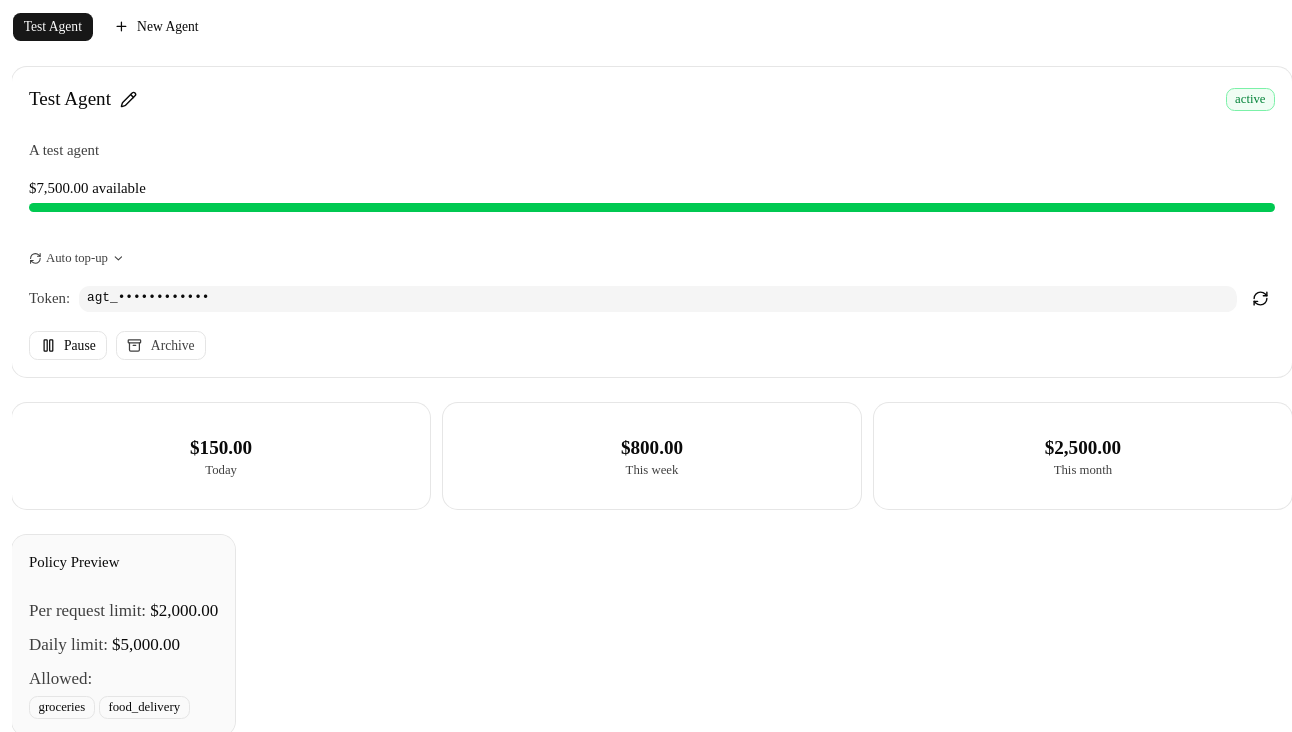
Test case: DashboardPage › create form error handling › shows generic error when create fails with non-ApiError
Note: Open the create form
Click the button "New Agent" at (156, 27), box [102,12,210,42]
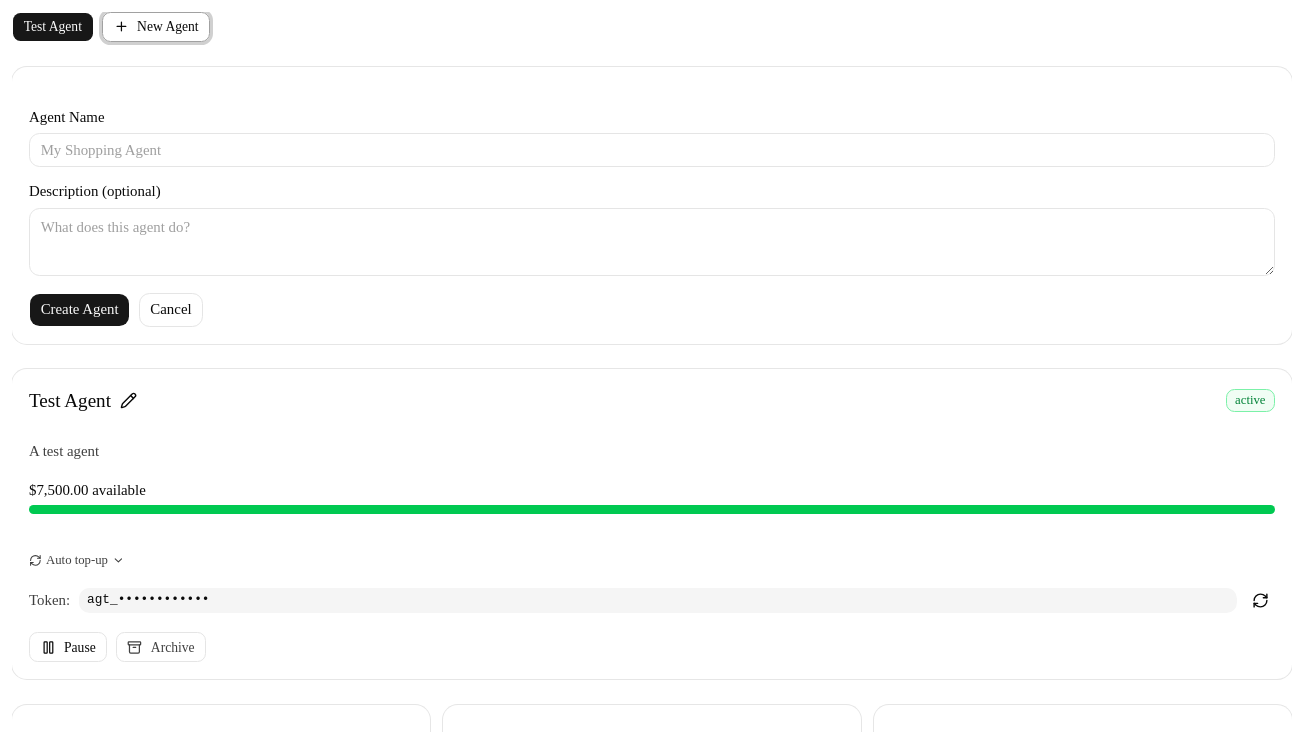
Type "Bot" into the field with placeholder "My Shopping Agent" at (652, 150), box [29,133,1275,167]
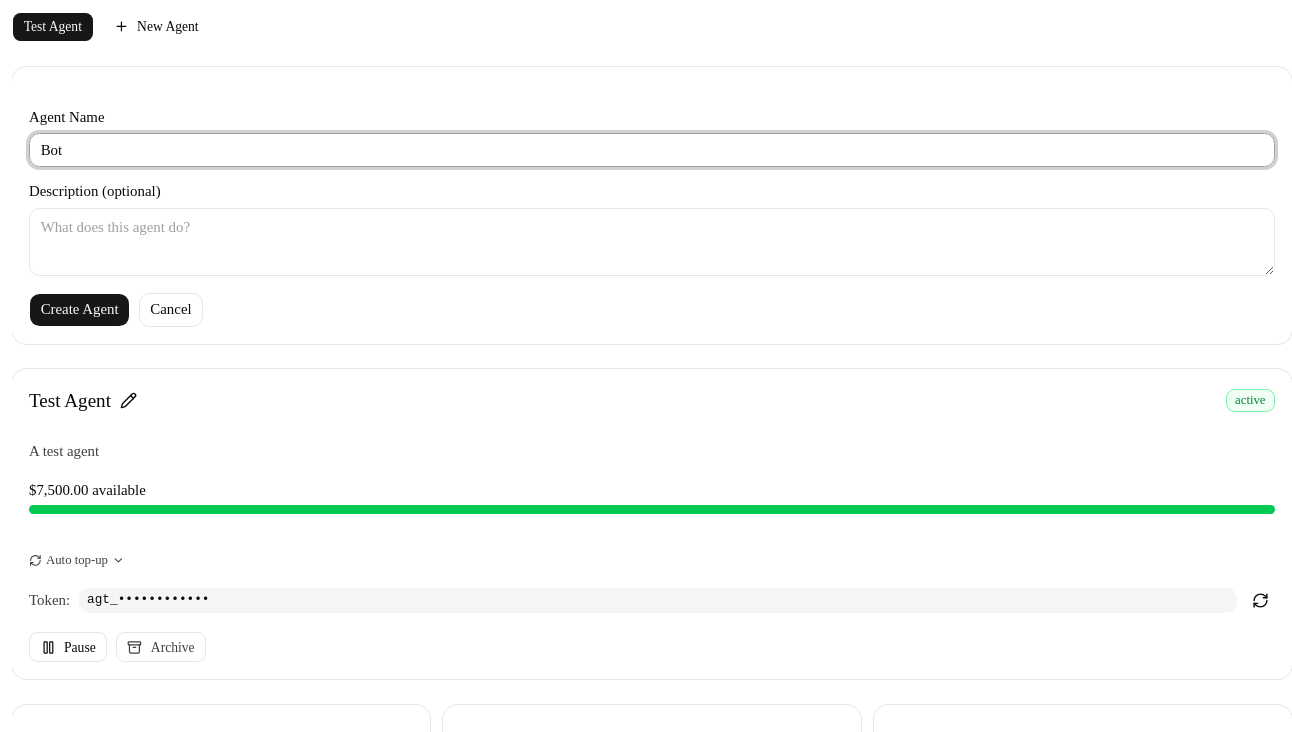
Click the button "Create Agent" at (80, 310), box [29,292,130,326]
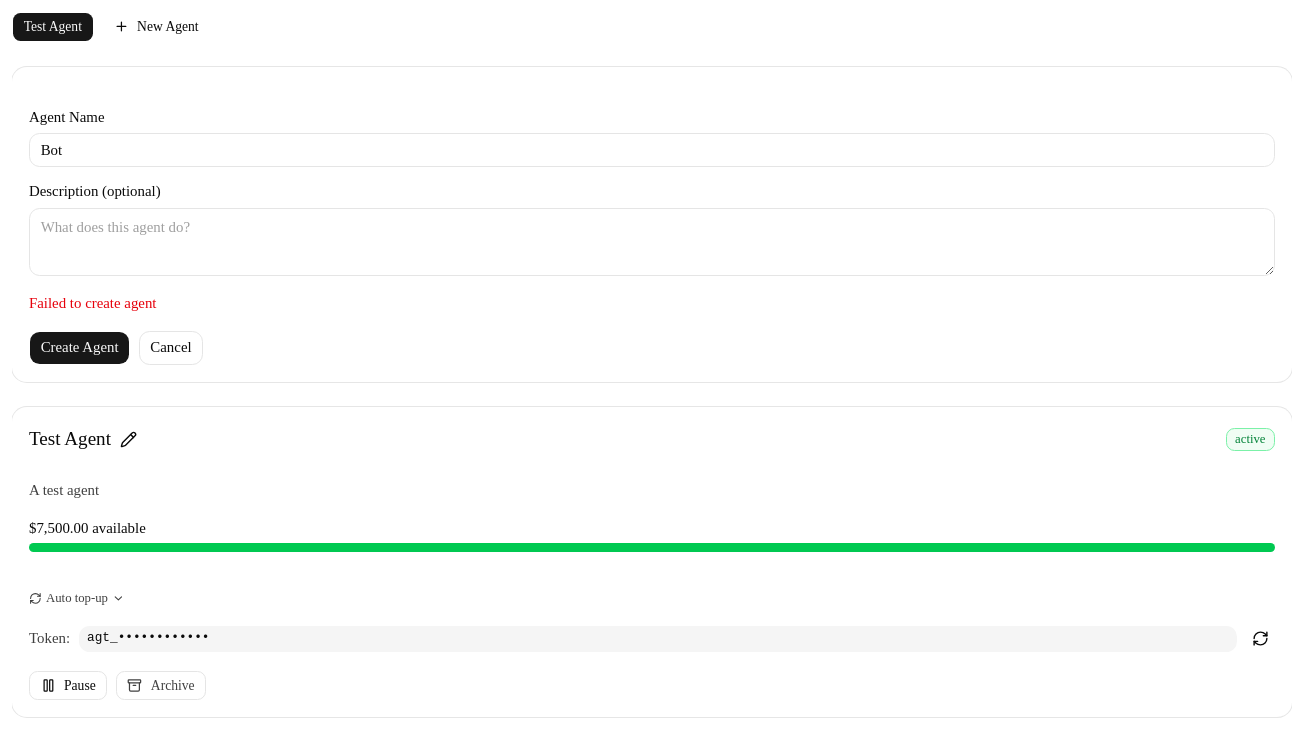
Now the text "Failed to create agent" is shown, box [29,294,156,310]
